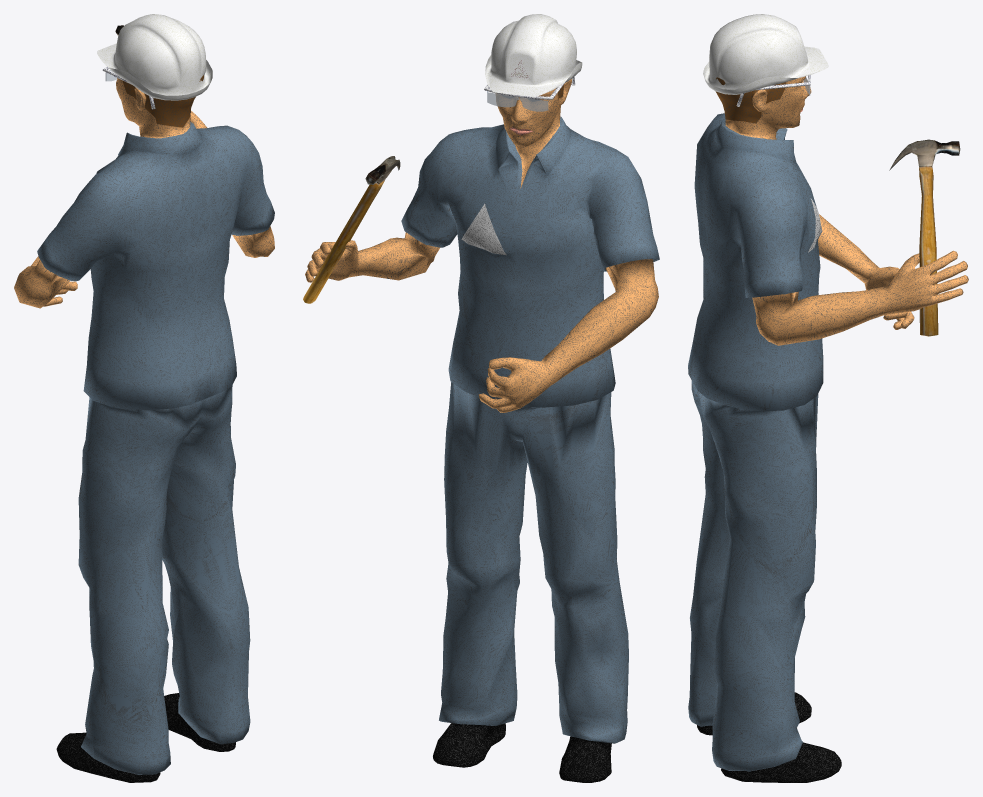
The model's file is schreiner.dae.
3 views of the same model, side by side, from view 1: azimuth 30°, elevation 25°; view 2: azimuth 150°, elevation 25°; view 3: azimuth 270°, elevation 25° (orthographic).
Parts seen in each view (by area): view 1: group_5 (×7), group_3; view 2: group_5 (×7), group_3, group_6, group_0; view 3: group_5 (×6), group_3, group_6 (×2).
Boxes of the visible parts, x1,y1,x2,y2 form: group_5 (×7): [14, 75, 274, 782]; group_3: [97, 14, 212, 100]; group_5 (×7): [305, 79, 659, 782]; group_3: [485, 14, 582, 96]; group_6: [303, 156, 400, 303]; group_0: [487, 91, 548, 111]; group_5 (×6): [688, 76, 968, 782]; group_3: [703, 14, 828, 94]; group_6 (×2): [889, 139, 960, 336].
Bounding box in the file's own units: 27.71 × 24.91 × 71.67.
14 materials, 2 textured.
